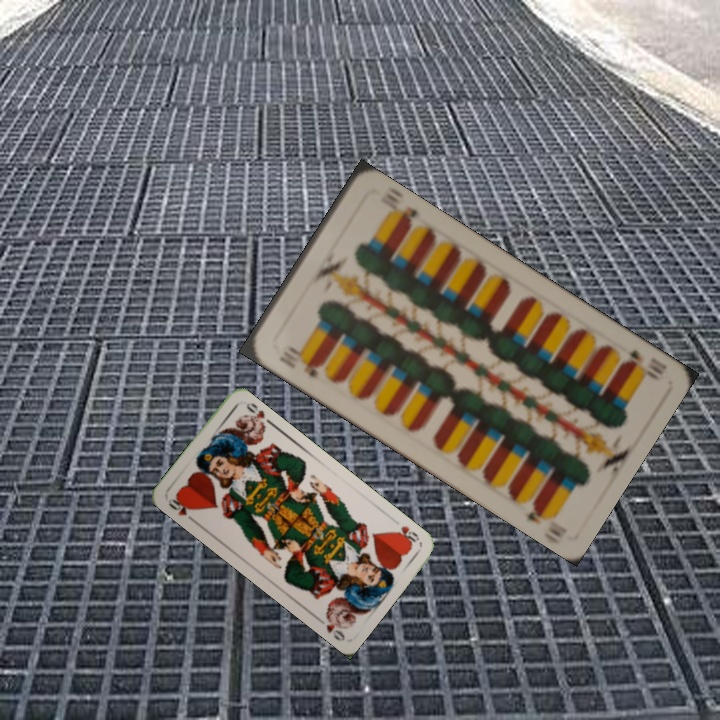E10: (618, 345, 670, 383), (274, 347, 324, 381)
HO: (164, 493, 198, 525), (389, 521, 422, 548)
